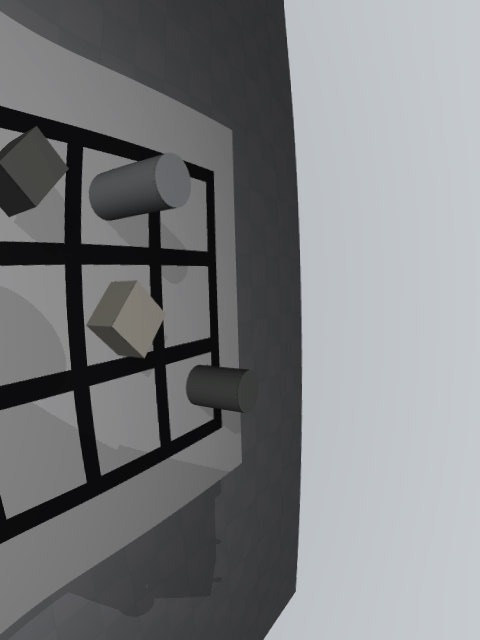can: (89, 153, 191, 221)
cube: (0, 126, 69, 217)
cylinder: (186, 365, 259, 413)
foam: (87, 280, 166, 359)
